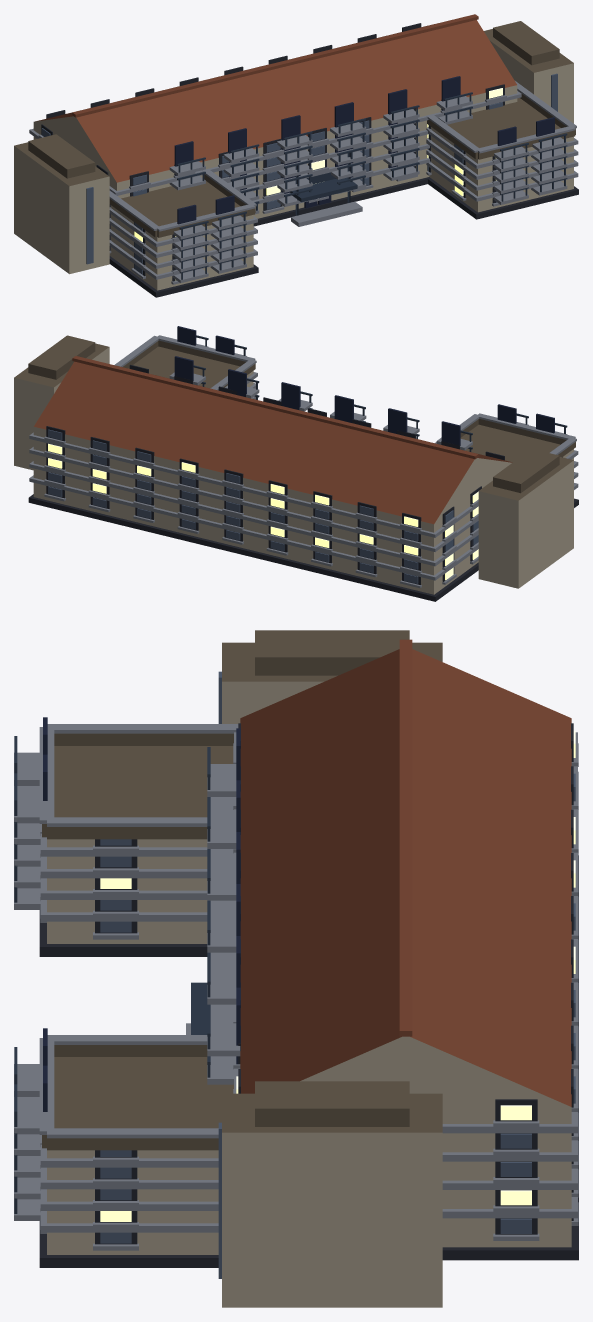
Rendered from hostel-high.glb.
3 renders of one model, top to bottom at view 1: azimuth 30°, elevation 25°; view 2: azimuth 150°, elevation 25°; view 3: azimuth 270°, elevation 25°, orthographic. The views are drawn at different scales.
Bounding box in the file's own units: 126 × 27.29 × 61.4.
